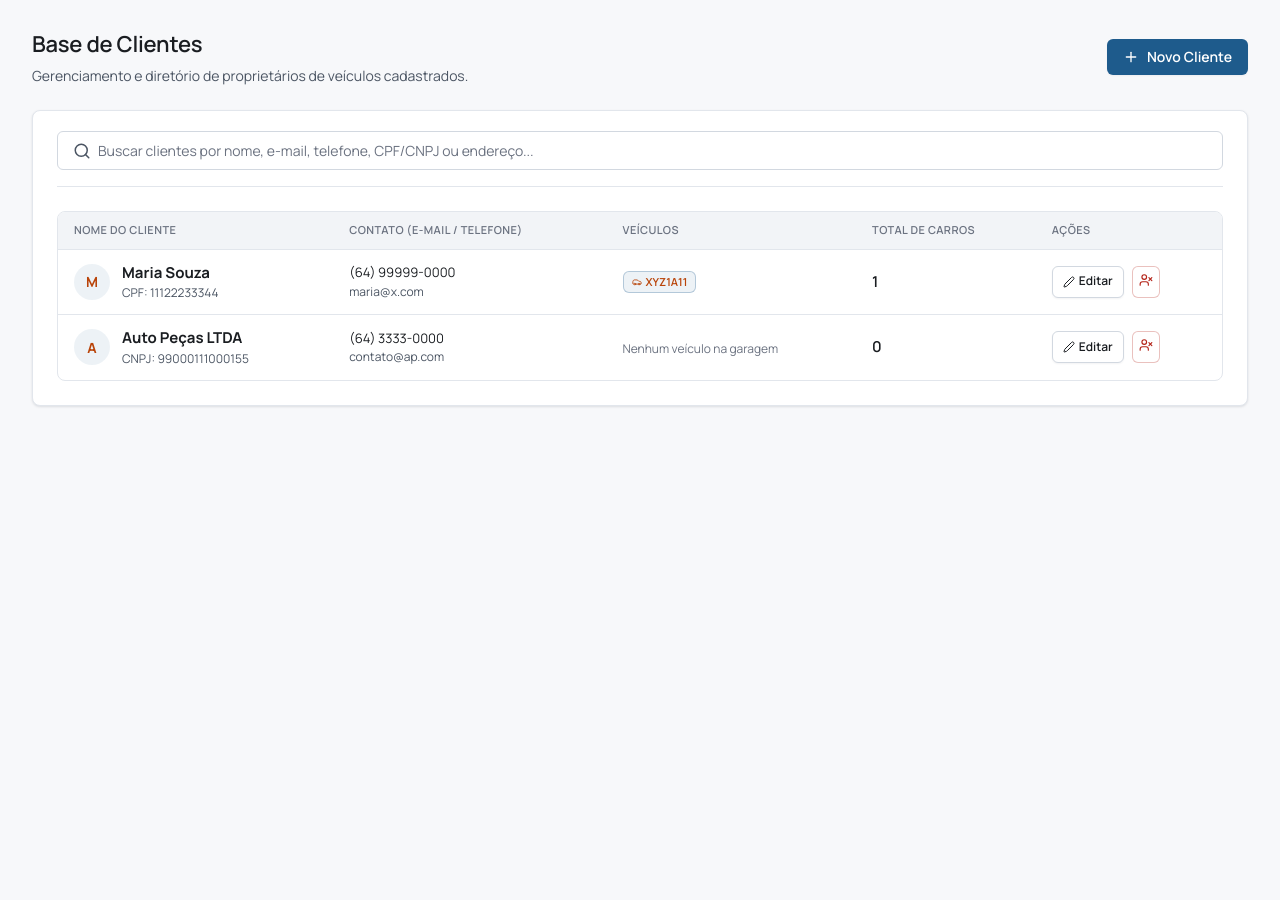
Tela de Clientes › identifica os campos obrigatorios no formulario
Step 1. Click the button "Novo Cliente" → (1178, 57), box x1=1107 y1=39 x2=1248 y2=75
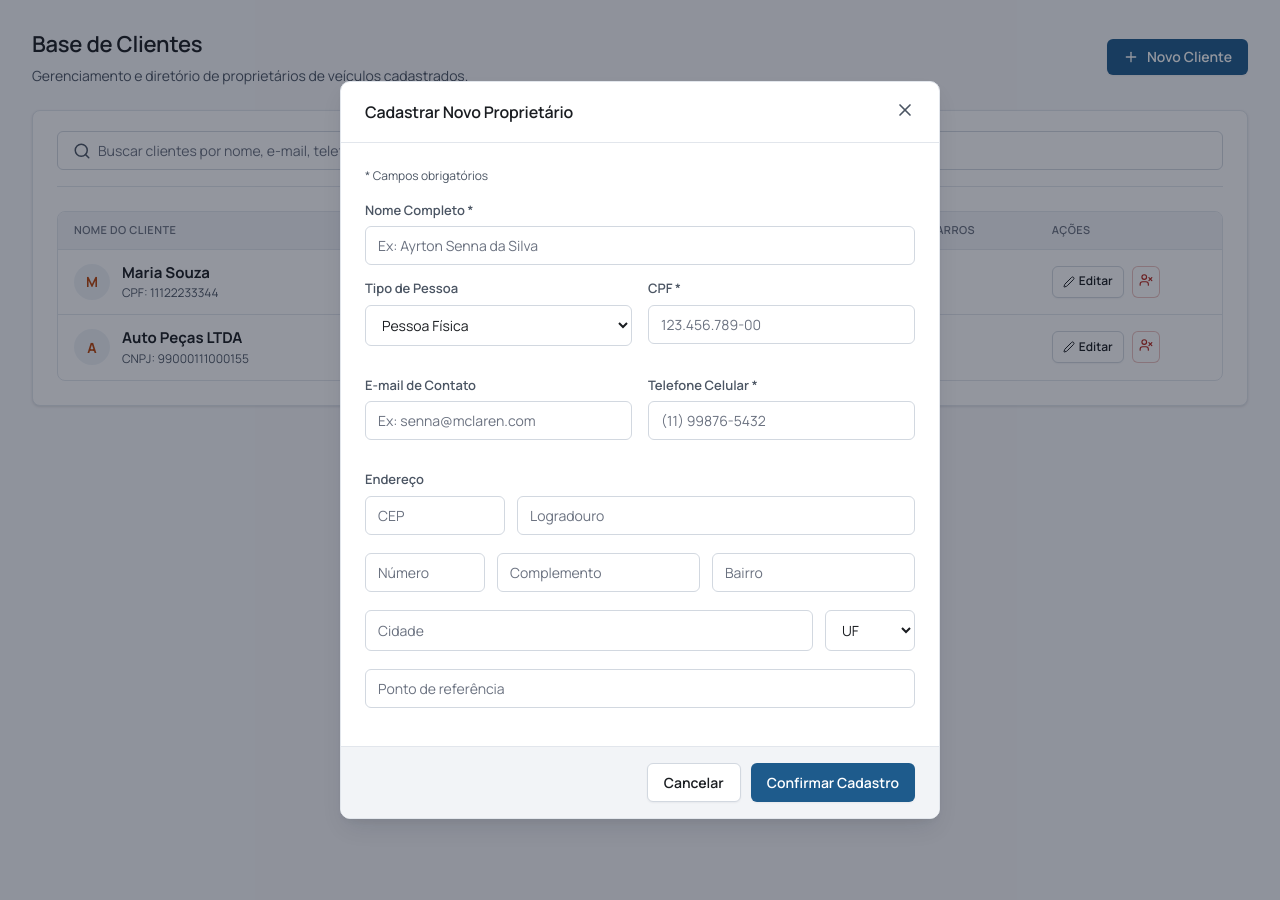
Result: the text "* Campos obrigatórios" is shown at x1=365 y1=167 x2=488 y2=184
